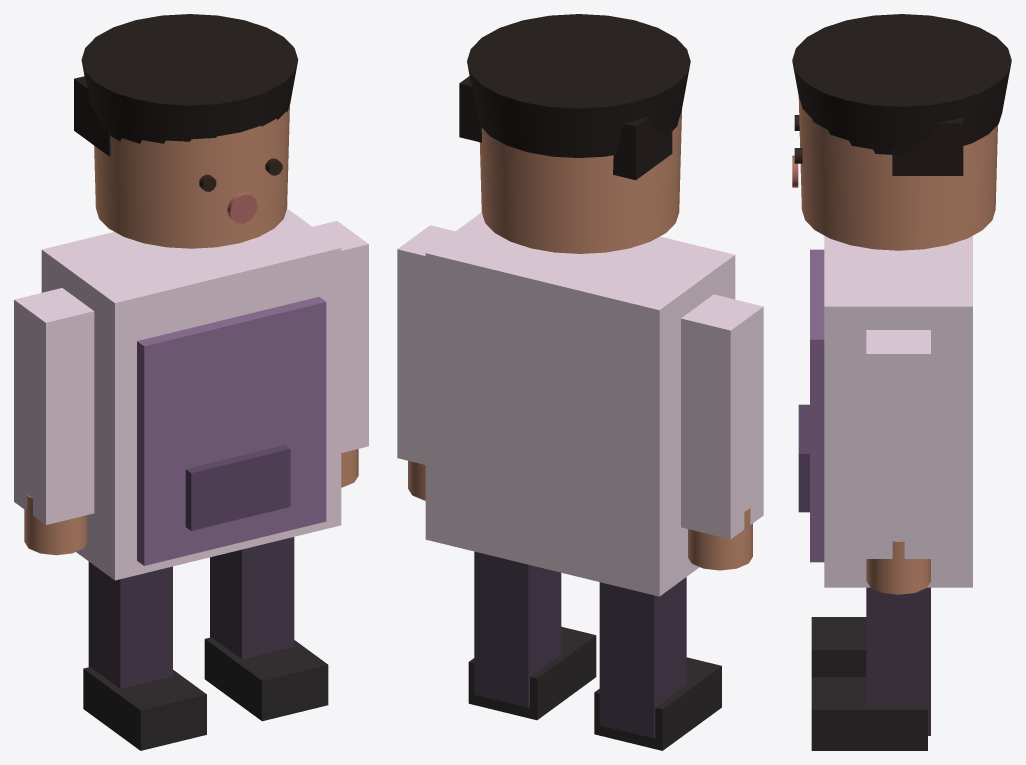
The model's file is customer-03.glb.
3 views of the same model, side by side, from view 1: azimuth 30°, elevation 25°; view 2: azimuth 150°, elevation 25°; view 3: azimuth 270°, elevation 25° (orthographic). The views are drawn at different scales.
Parts seen in each view (by area): view 1: Shirt, Apron, Sleeve (×2), HairCap, Head, Leg (×2), Shoe (×2), ApronPocket, Hand (×2), HairFringe, Smile; view 2: Shirt, Sleeve (×2), HairCap, Leg (×2), Head, Shoe (×2), HairFringe, Hand (×2); view 3: Shirt, HairCap, Head, Sleeve, Shoe (×2), Leg, Apron, HairFringe, Hand, ApronPocket.
Part boxes in pixels (<box>): Shirt: <box>41,208,341,580</box>; Apron: <box>137,297,326,565</box>; Sleeve (×2): <box>14,221,368,524</box>; HairCap: <box>81,14,298,143</box>; Head: <box>94,105,289,248</box>; Leg (×2): <box>88,537,294,688</box>; Shoe (×2): <box>83,637,328,750</box>; ApronPocket: <box>185,445,290,530</box>; Hand (×2): <box>24,449,358,555</box>; HairFringe: <box>74,76,110,156</box>; Smile: <box>227,192,257,223</box>; Shirt: <box>425,212,735,596</box>; Sleeve (×2): <box>397,225,763,539</box>; HairCap: <box>467,14,690,157</box>; Leg (×2): <box>474,551,686,738</box>; Head: <box>479,110,681,253</box>; Shoe (×2): <box>468,626,721,750</box>; HairFringe: <box>459,76,672,180</box>; Hand (×2): <box>408,461,752,570</box>; Shirt: <box>824,235,972,587</box>; HairCap: <box>792,14,1011,154</box>; Head: <box>798,96,997,250</box>; Sleeve: <box>866,330,930,558</box>; Shoe (×2): <box>811,617,927,750</box>; Leg: <box>866,587,930,735</box>; Apron: <box>810,249,824,562</box>; HairFringe: <box>892,117,963,175</box>; Hand: <box>866,541,930,594</box>; ApronPocket: <box>798,404,809,512</box>.
Size of the model in its own units: 1.18 by 2.2 by 0.68.
